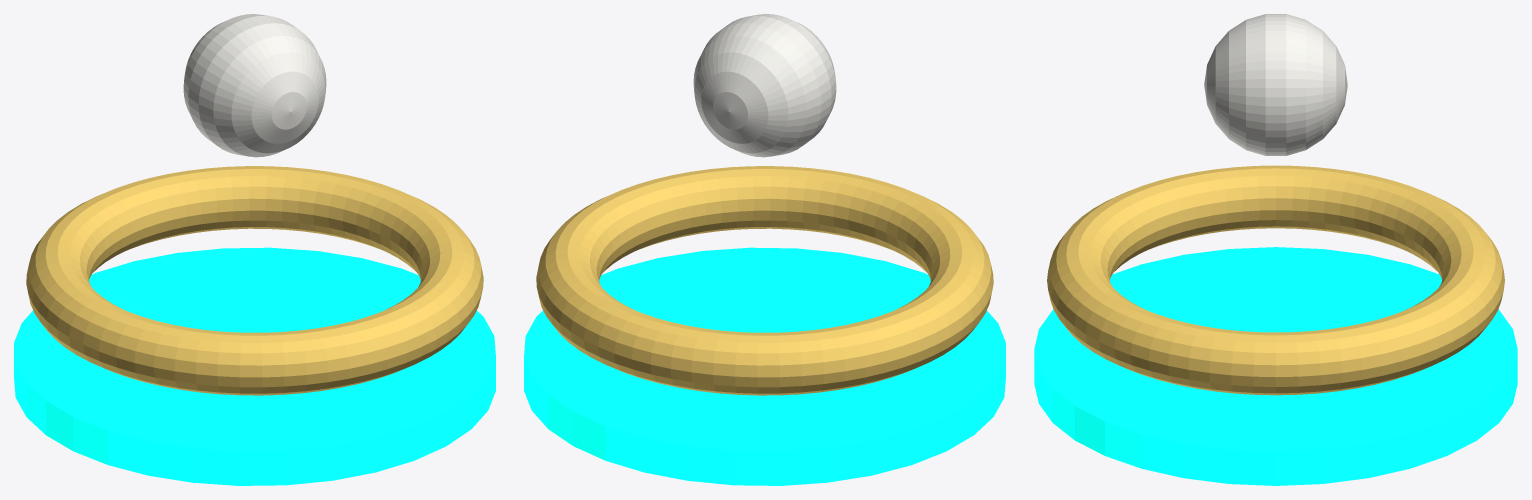
File: fashion_ring.glb
3 views of the same model, side by side, from view 1: azimuth 30°, elevation 25°; view 2: azimuth 150°, elevation 25°; view 3: azimuth 270°, elevation 25° (orthographic).
Parts seen in each view (by area): view 1: 06_12_Popular_Fashion_Ring_ROOT_base, 06_12_Popular_Fashion_Ring_part_01, 06_12_Popular_Fashion_Ring_part_02; view 2: 06_12_Popular_Fashion_Ring_ROOT_base, 06_12_Popular_Fashion_Ring_part_01, 06_12_Popular_Fashion_Ring_part_02; view 3: 06_12_Popular_Fashion_Ring_ROOT_base, 06_12_Popular_Fashion_Ring_part_01, 06_12_Popular_Fashion_Ring_part_02.
Boxes of the visible parts, box(x1,y1,x2,y2) form: 06_12_Popular_Fashion_Ring_ROOT_base: box(14, 247, 495, 485); 06_12_Popular_Fashion_Ring_part_01: box(26, 166, 483, 395); 06_12_Popular_Fashion_Ring_part_02: box(183, 14, 326, 157); 06_12_Popular_Fashion_Ring_ROOT_base: box(524, 247, 1005, 485); 06_12_Popular_Fashion_Ring_part_01: box(536, 166, 993, 395); 06_12_Popular_Fashion_Ring_part_02: box(693, 14, 836, 157); 06_12_Popular_Fashion_Ring_ROOT_base: box(1034, 247, 1517, 485); 06_12_Popular_Fashion_Ring_part_01: box(1047, 165, 1504, 395); 06_12_Popular_Fashion_Ring_part_02: box(1204, 14, 1347, 155).
Bounding box in the file's own units: 0.76 × 0.63 × 0.76.
